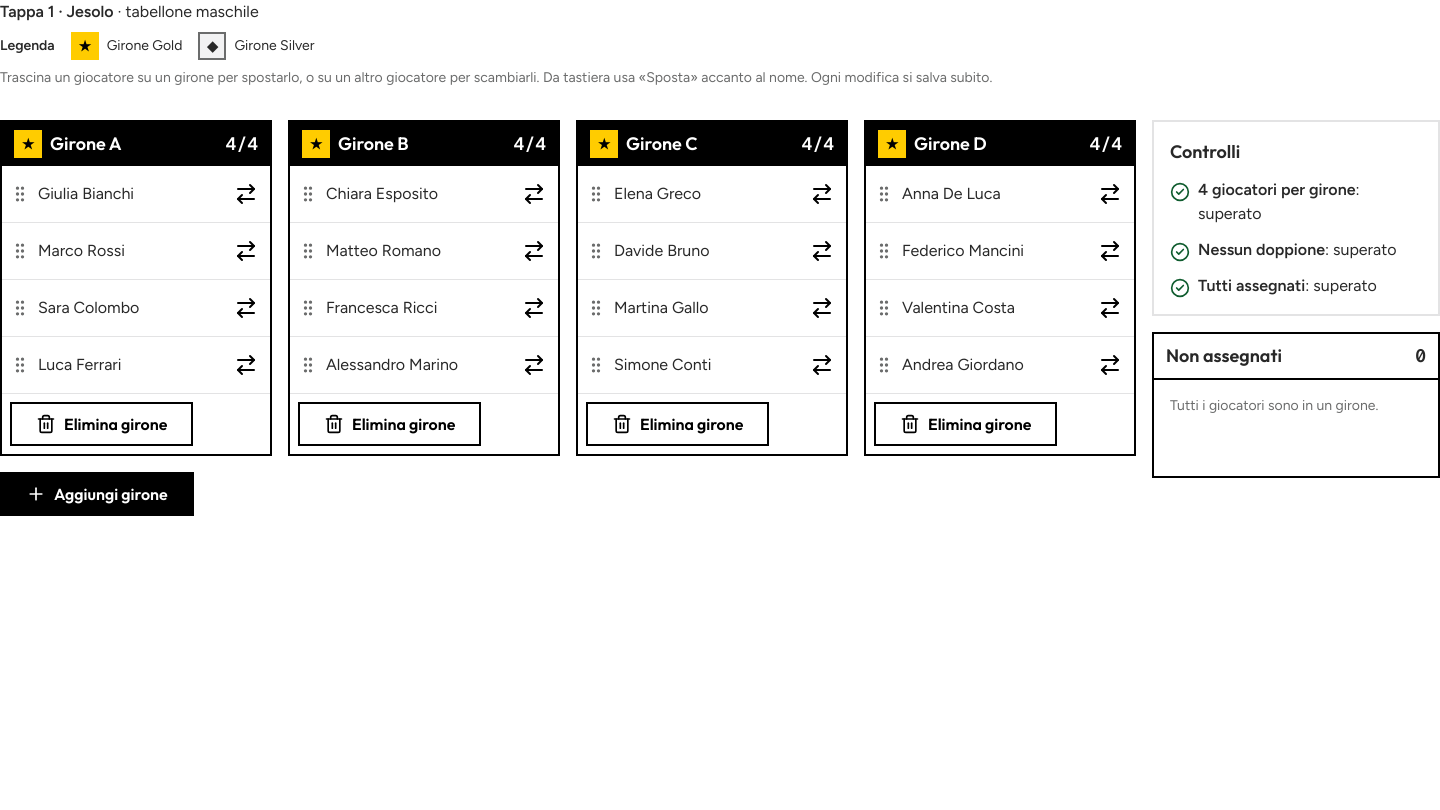
it: GironiEditor (w-admin-gironi) › elimina un girone dopo la conferma: i giocatori diventano non assegnati
The width and height of the screenshot is (1440, 810).
Click the button with aria-label "Elimina Girone D" at (966, 424), box [874,402,1057,446]
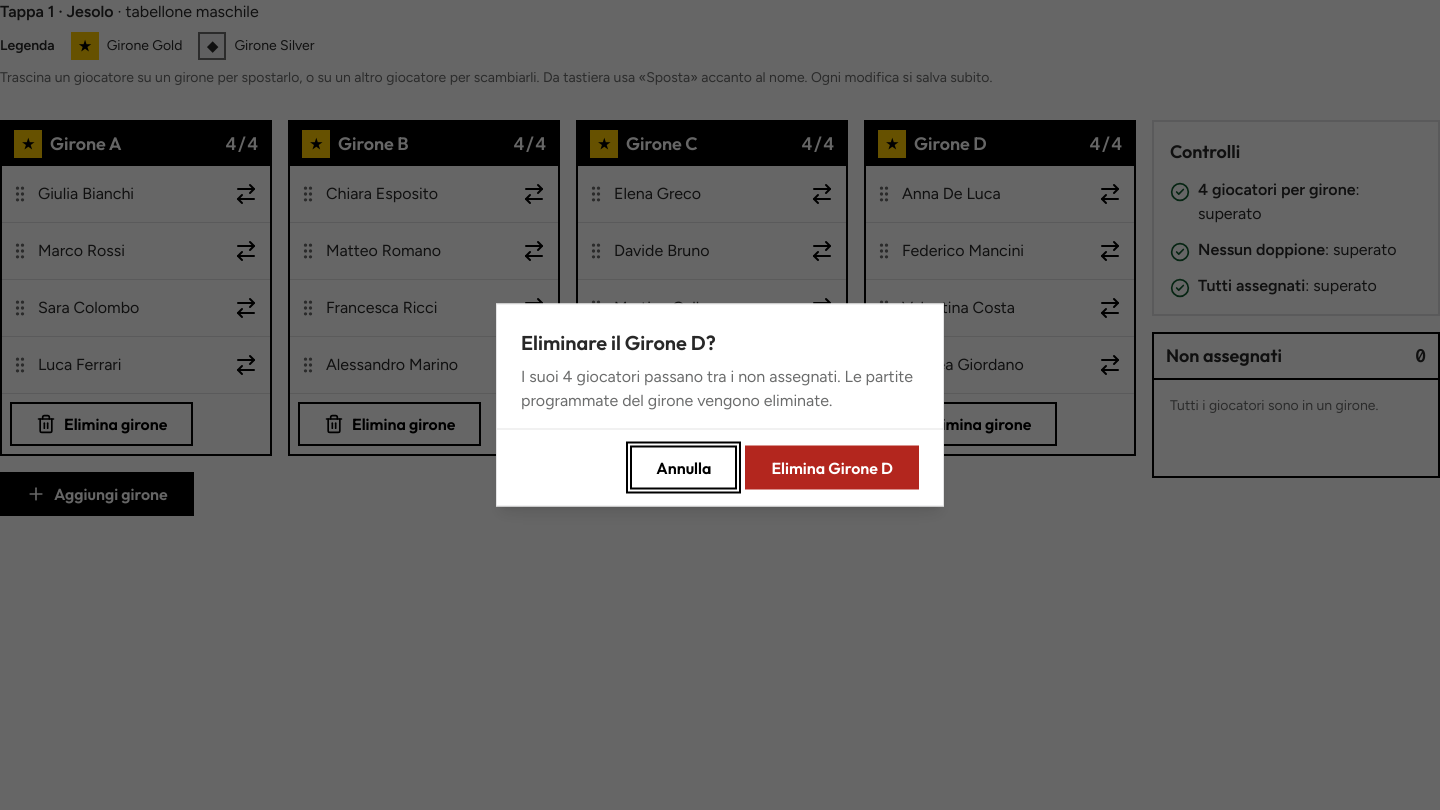
Click the button "Elimina Girone D" at (832, 468), box [745,446,919,490]
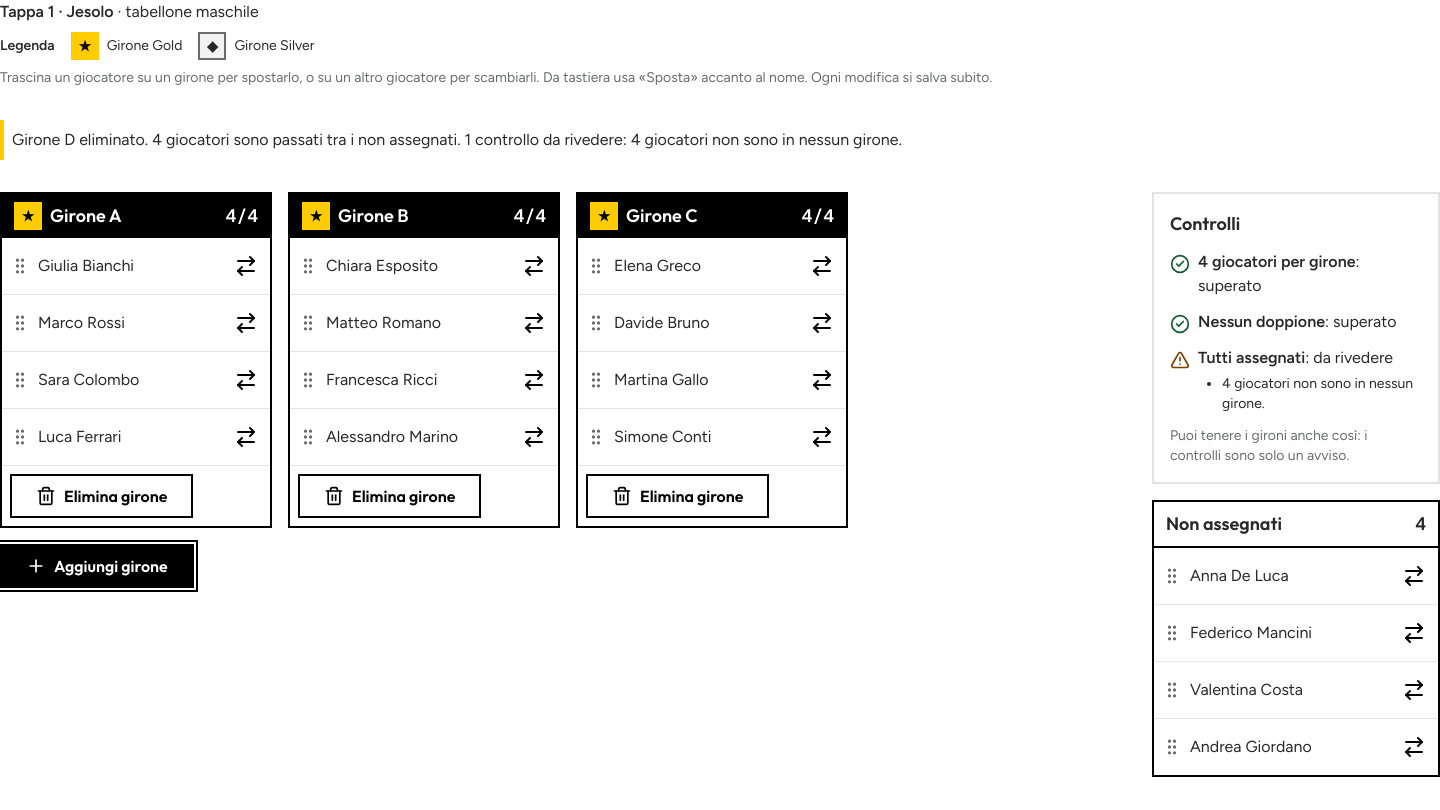
Expected: the number of elements with test id "girone-card" is 3, [0,192,272,528]; [288,192,560,528]; [576,192,848,528]
